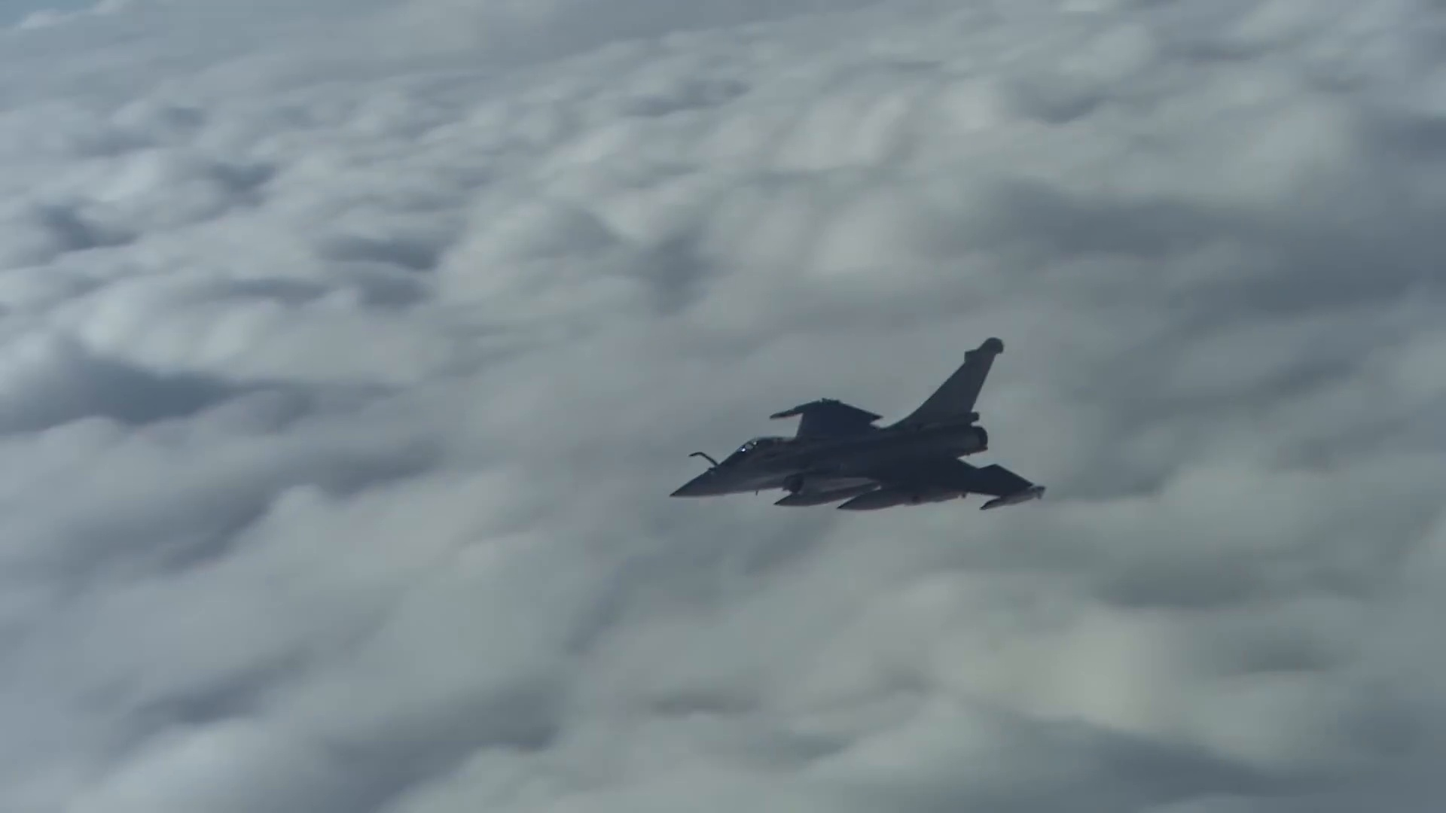Rafale: (663, 326, 1056, 522)
